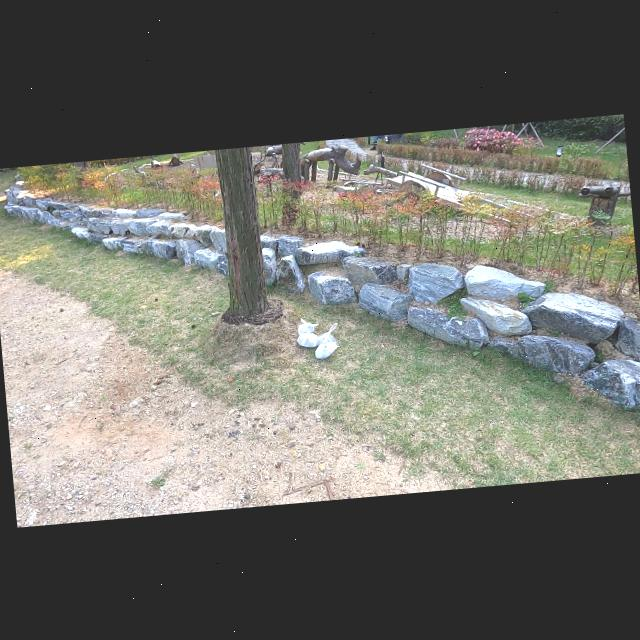trash: (295, 321, 322, 349), (316, 322, 342, 347), (293, 314, 322, 334), (313, 340, 340, 360)
